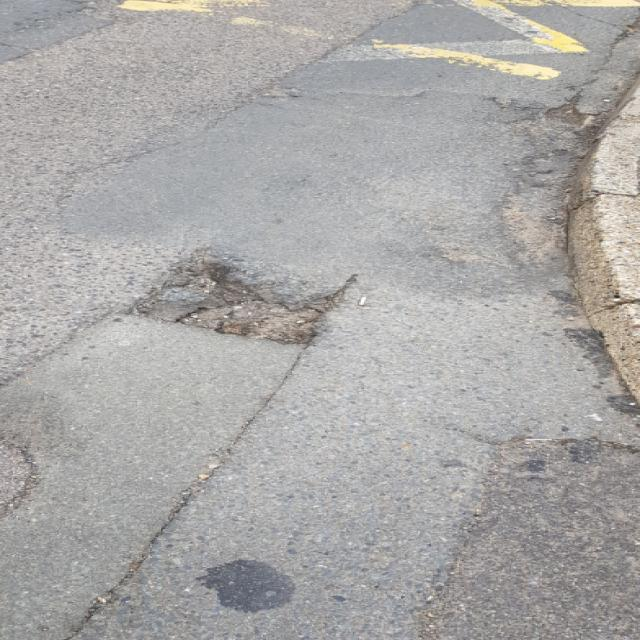Pothole: (119, 247, 351, 348)
